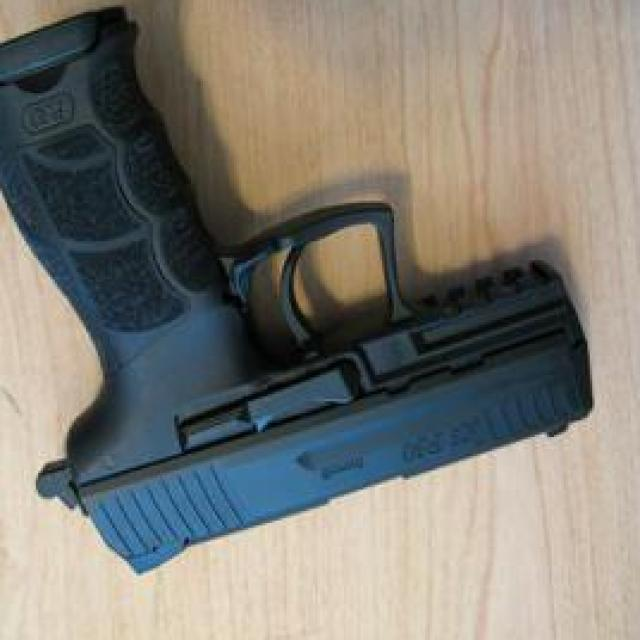pistol: (0, 12, 600, 573)
